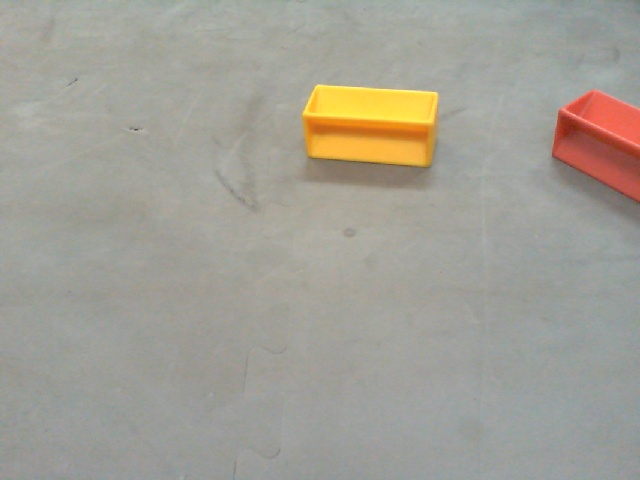RedSample: (553, 89, 640, 199)
YellowSample: (301, 79, 440, 171)
